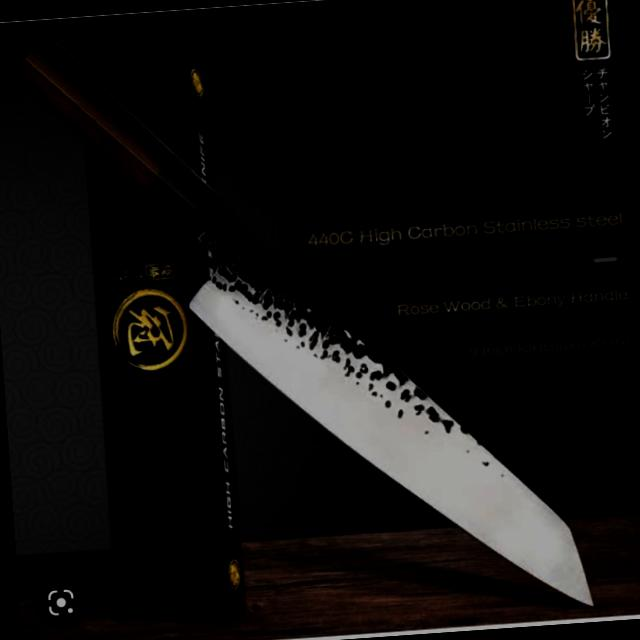knife: (2, 7, 596, 640)
